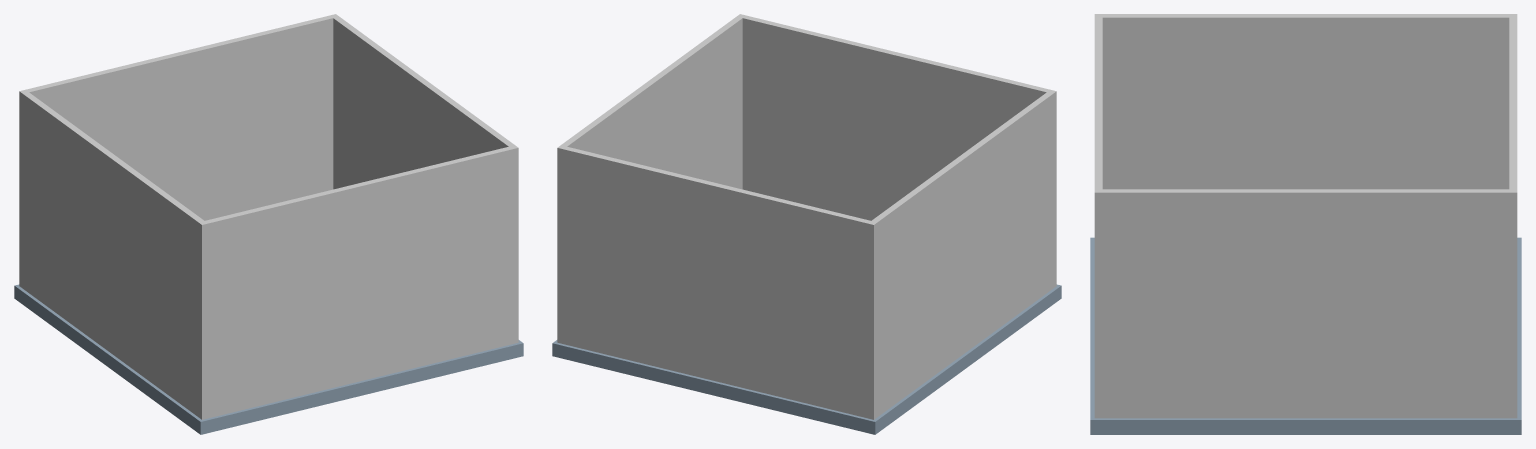
File: room3.gltf
The picture shows the model from 3 angles, left to right: view 1: azimuth 30°, elevation 25°; view 2: azimuth 150°, elevation 25°; view 3: azimuth 270°, elevation 25°; orthographic projection. The views are drawn at different scales.
Visible parts, largest first — view 1: 壁002, Slab001; view 2: 壁002, Slab001; view 3: 壁002, Slab001.
Part boxes in pixels (x1,y1,x2,y2): 壁002: [19, 14, 518, 419]; Slab001: [14, 284, 523, 434]; 壁002: [557, 14, 1056, 419]; Slab001: [552, 284, 1061, 434]; 壁002: [1094, 14, 1517, 418]; Slab001: [1090, 237, 1521, 434].
Size of the model in its own units: 5.2 by 3.2 by 5.2.
